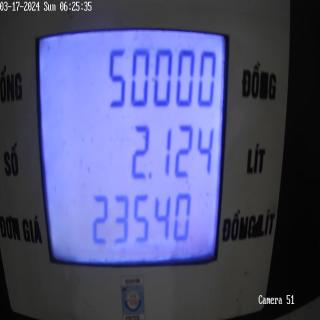screen: (32, 6, 232, 286)
